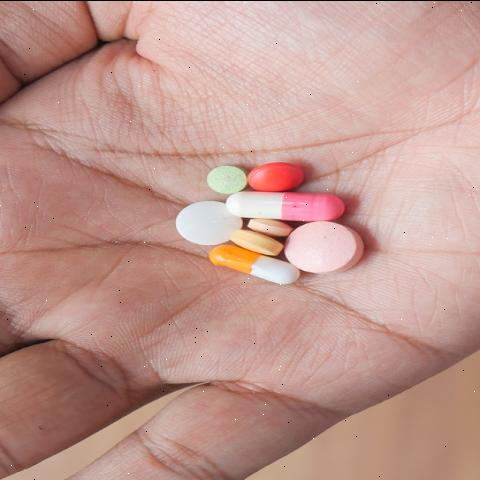Pill: (156, 194, 248, 258), (287, 218, 375, 278)
